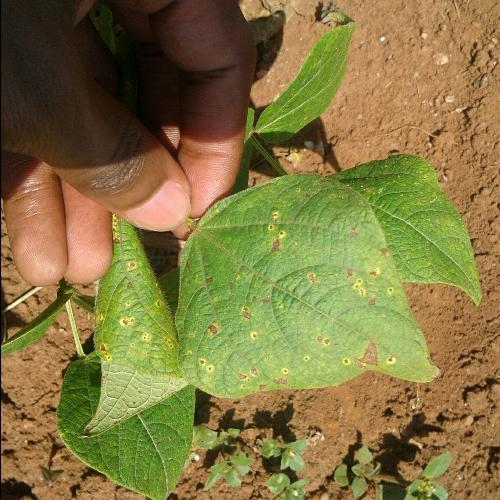hawar: (195, 262, 284, 339), (328, 248, 392, 319), (230, 364, 297, 400), (348, 336, 392, 370), (116, 272, 140, 296), (259, 233, 284, 256), (96, 341, 116, 362)
